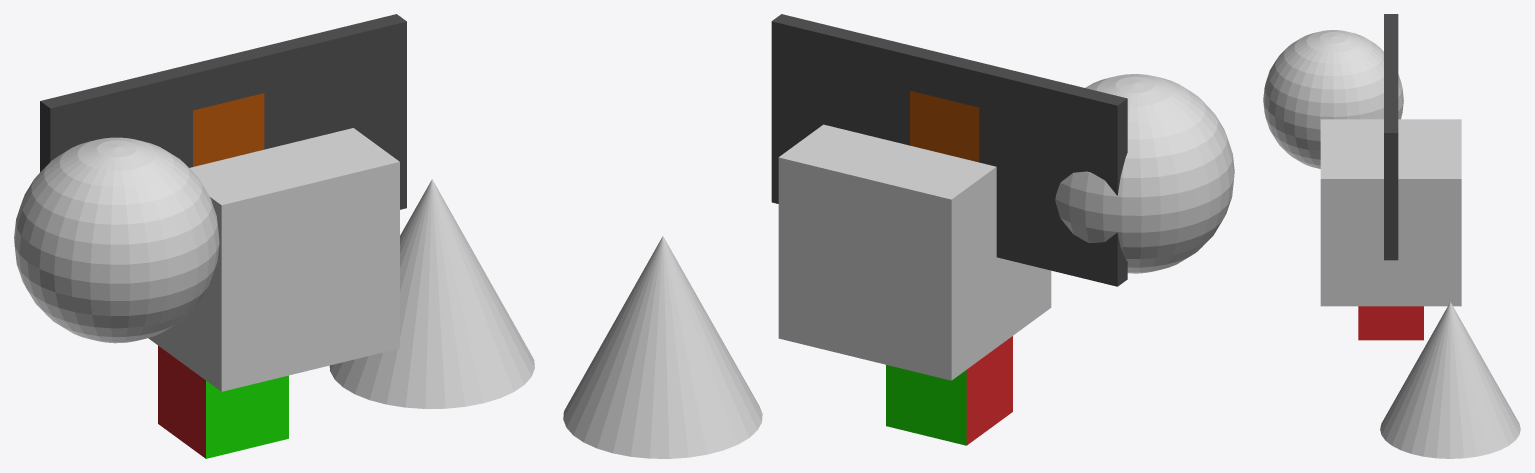
Rendered from testWallDoor4.glb.
The picture shows the model from 3 angles, left to right: view 1: azimuth 30°, elevation 25°; view 2: azimuth 150°, elevation 25°; view 3: azimuth 270°, elevation 25°; orthographic projection. The views are drawn at different scales.
Parts seen in each view (by area): view 1: CubeChild, Sphere, wall, Cone, Cube, door; view 2: CubeChild, wall, Cone, Sphere, Cube, door; view 3: CubeChild, Cone, Sphere, wall, Cube.
Boxes of the visible parts, bbox=[...] form: CubeChild: bbox=[148, 128, 399, 391]; Sphere: bbox=[14, 137, 219, 343]; wall: bbox=[40, 14, 406, 209]; Cone: bbox=[329, 179, 534, 408]; Cube: bbox=[158, 345, 288, 458]; door: bbox=[193, 93, 264, 166]; CubeChild: bbox=[778, 124, 1051, 380]; wall: bbox=[771, 14, 1127, 286]; Cone: bbox=[563, 236, 762, 458]; Sphere: bbox=[1055, 74, 1234, 273]; Cube: bbox=[886, 336, 1012, 445]; door: bbox=[910, 91, 979, 162]; CubeChild: bbox=[1320, 119, 1461, 306]; Cone: bbox=[1380, 302, 1520, 458]; Sphere: bbox=[1263, 30, 1403, 168]; wall: bbox=[1384, 14, 1398, 260]; Cube: bbox=[1358, 306, 1423, 340].
Size of the model in its own units: 6.5 by 4.26 by 3.66.
